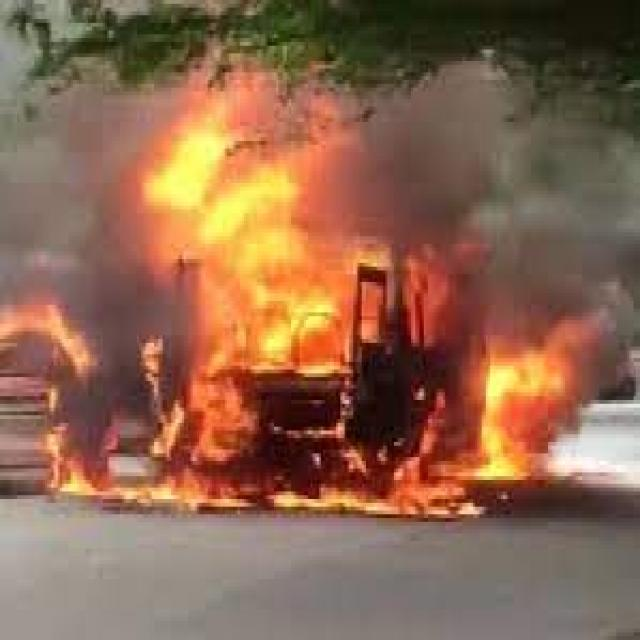fire: (143, 107, 598, 526), (2, 305, 144, 510)
smoke: (374, 45, 640, 278), (2, 84, 139, 305)
